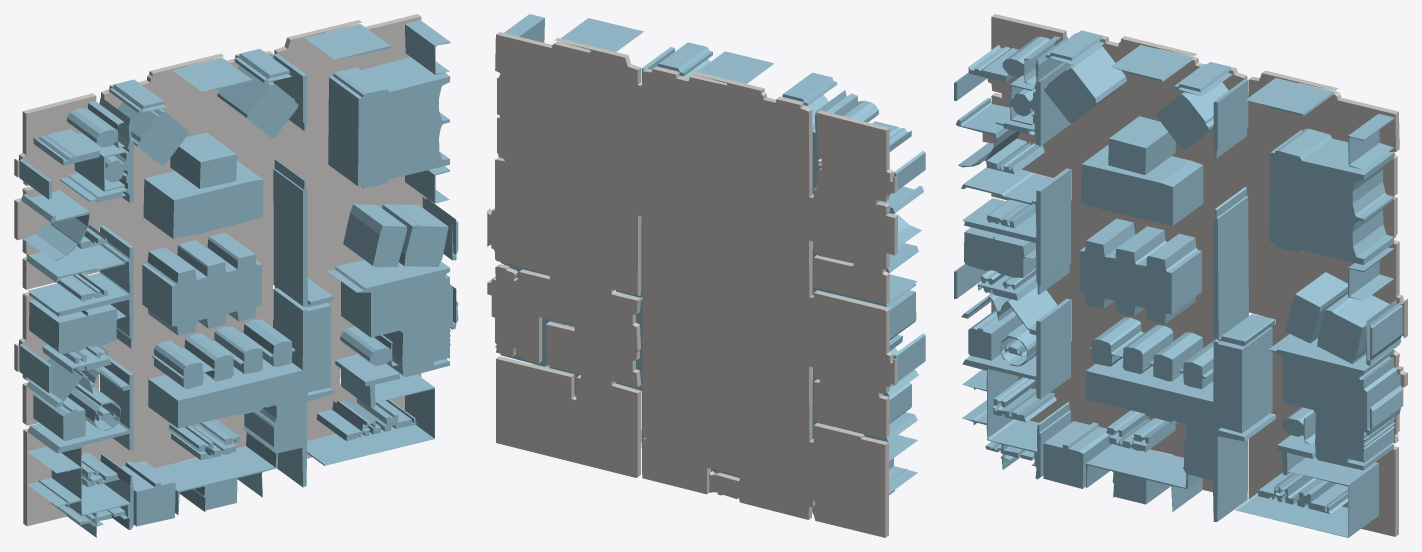
3 renders of one model, left to right at view 1: azimuth 30°, elevation 25°; view 2: azimuth 150°, elevation 25°; view 3: azimuth 330°, elevation 25°, orthographic. The views are drawn at different scales.
Visible parts, largest first — view 1: world; view 2: world; view 3: world.
Boxes of the visible parts, x1,y1,x2,y2 form: world: (14,14,458,537); world: (487,14,925,537); world: (954,14,1407,537).
Size of the model in its own units: 10.23 by 10.02 by 1.43.
